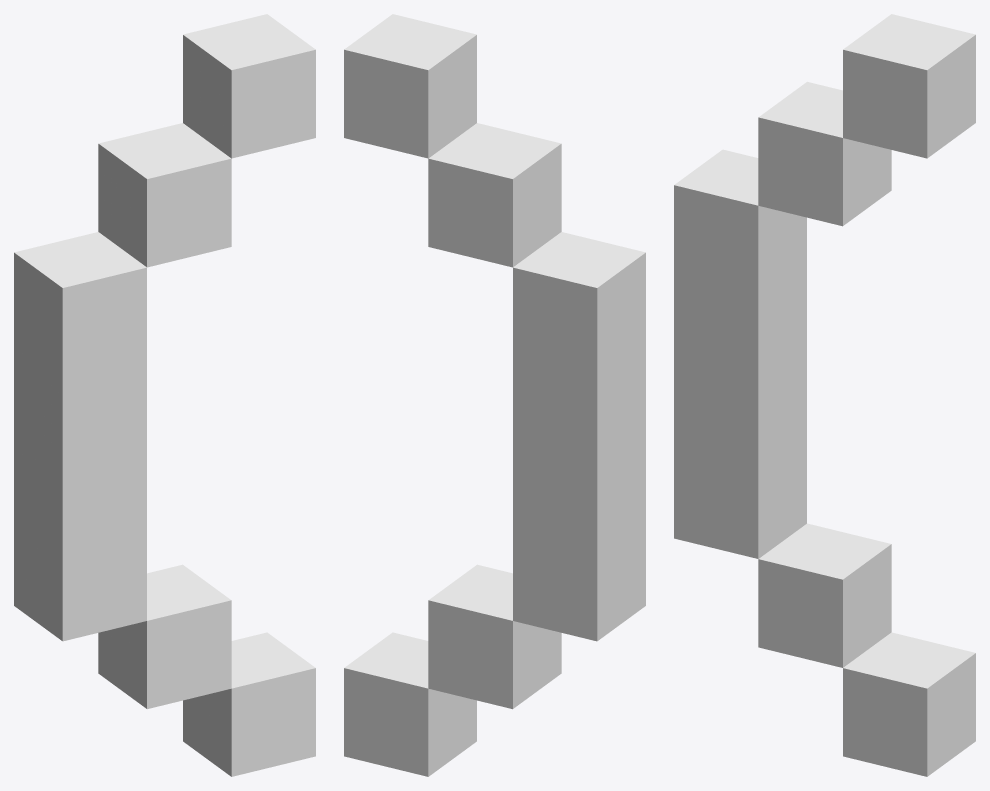
File: Bow-White.vox.obj
3 views of the same model, side by side, from view 1: azimuth 30°, elevation 25°; view 2: azimuth 150°, elevation 25°; view 3: azimuth 330°, elevation 25° (orthographic).
Bounding box in the file's own units: 0.3 × 0.8 × 0.1.
1 material, 1 textured.
